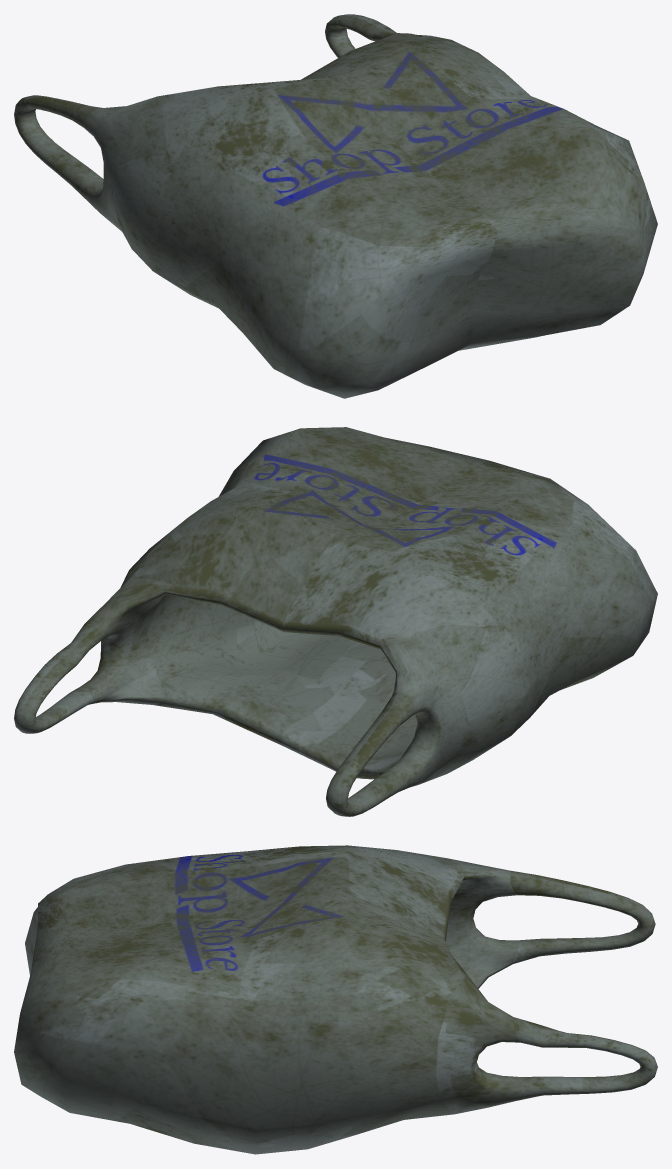
The model's file is plastic_bag.fbx.
The picture shows the model from 3 angles, top to bottom: view 1: azimuth 30°, elevation 25°; view 2: azimuth 150°, elevation 25°; view 3: azimuth 270°, elevation 25°; orthographic projection. The views are drawn at different scales.
Parts seen in each view (by area): view 1: PlasticBag2; view 2: PlasticBag2; view 3: PlasticBag2.
Boxes of the visible parts, x1=… form: PlasticBag2: x1=14, y1=14, x2=657, y2=398; PlasticBag2: x1=14, y1=427, x2=657, y2=816; PlasticBag2: x1=14, y1=845, x2=657, y2=1154.
Size of the model in its own units: 1.35 by 0.7007 by 2.
Materials: 1 (1 with a texture image).
